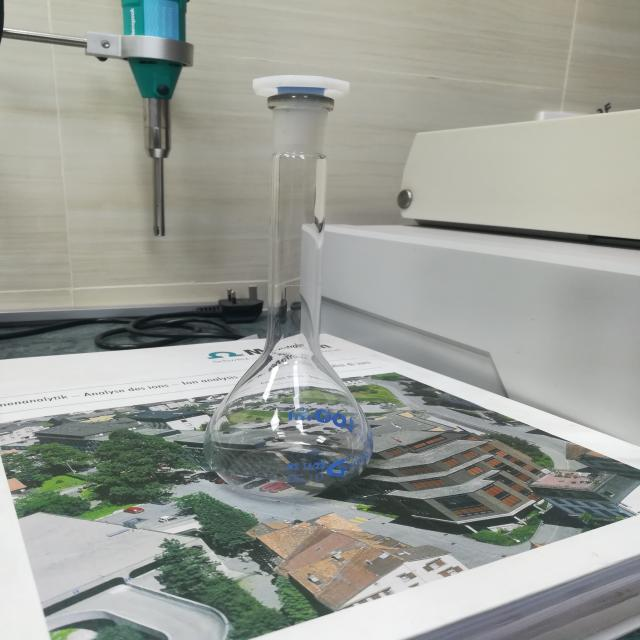Volumetric_Flask: (198, 41, 396, 525)
